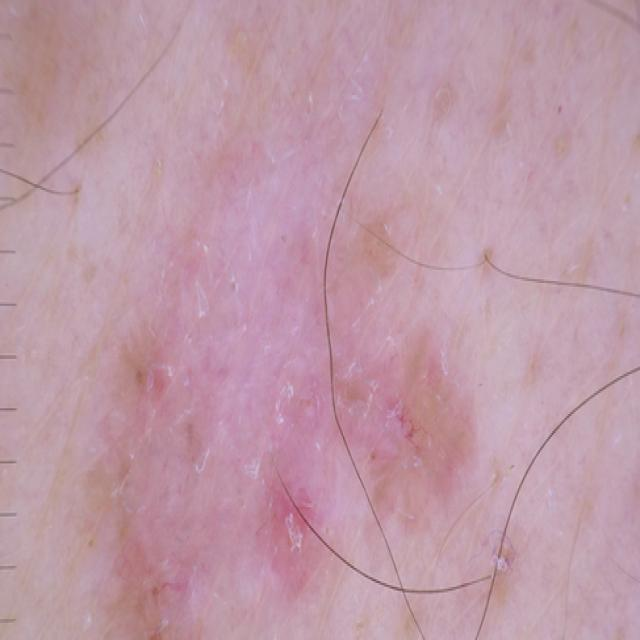Carcinoma: (55, 144, 507, 640)
